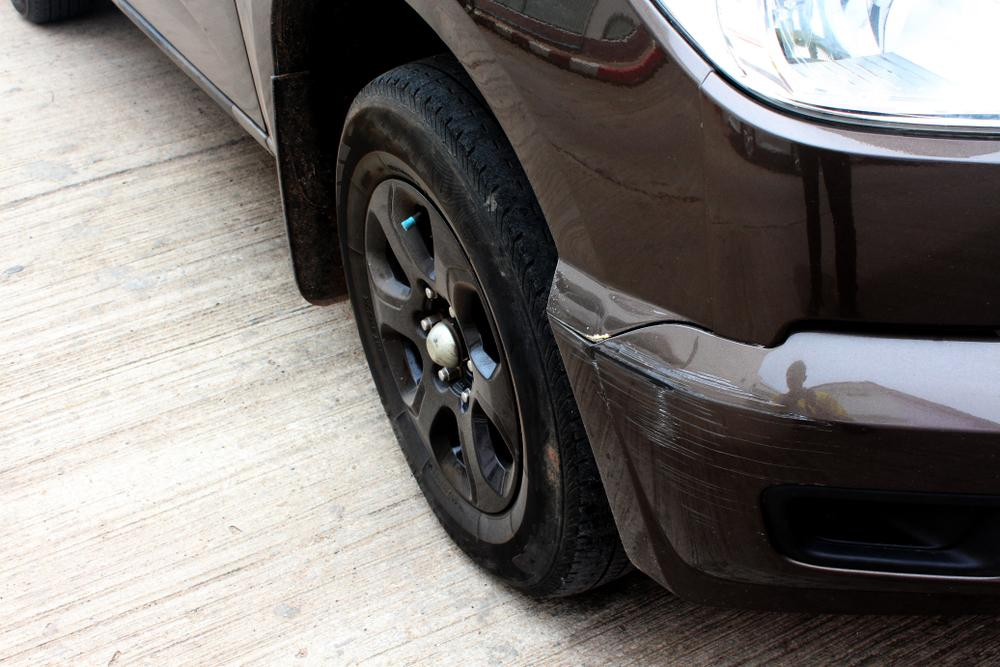scratch: (581, 335, 834, 533)
